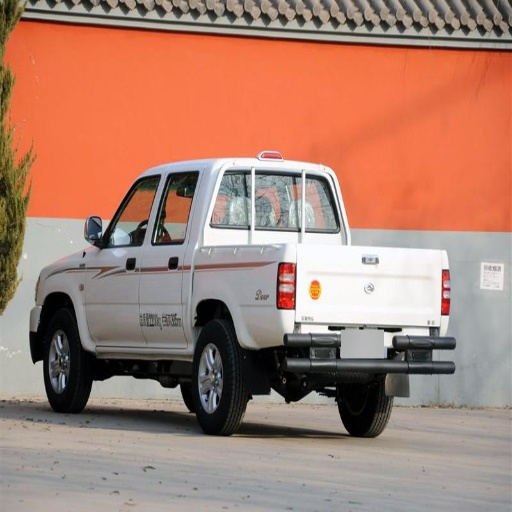trunk: (154, 230, 440, 355)
